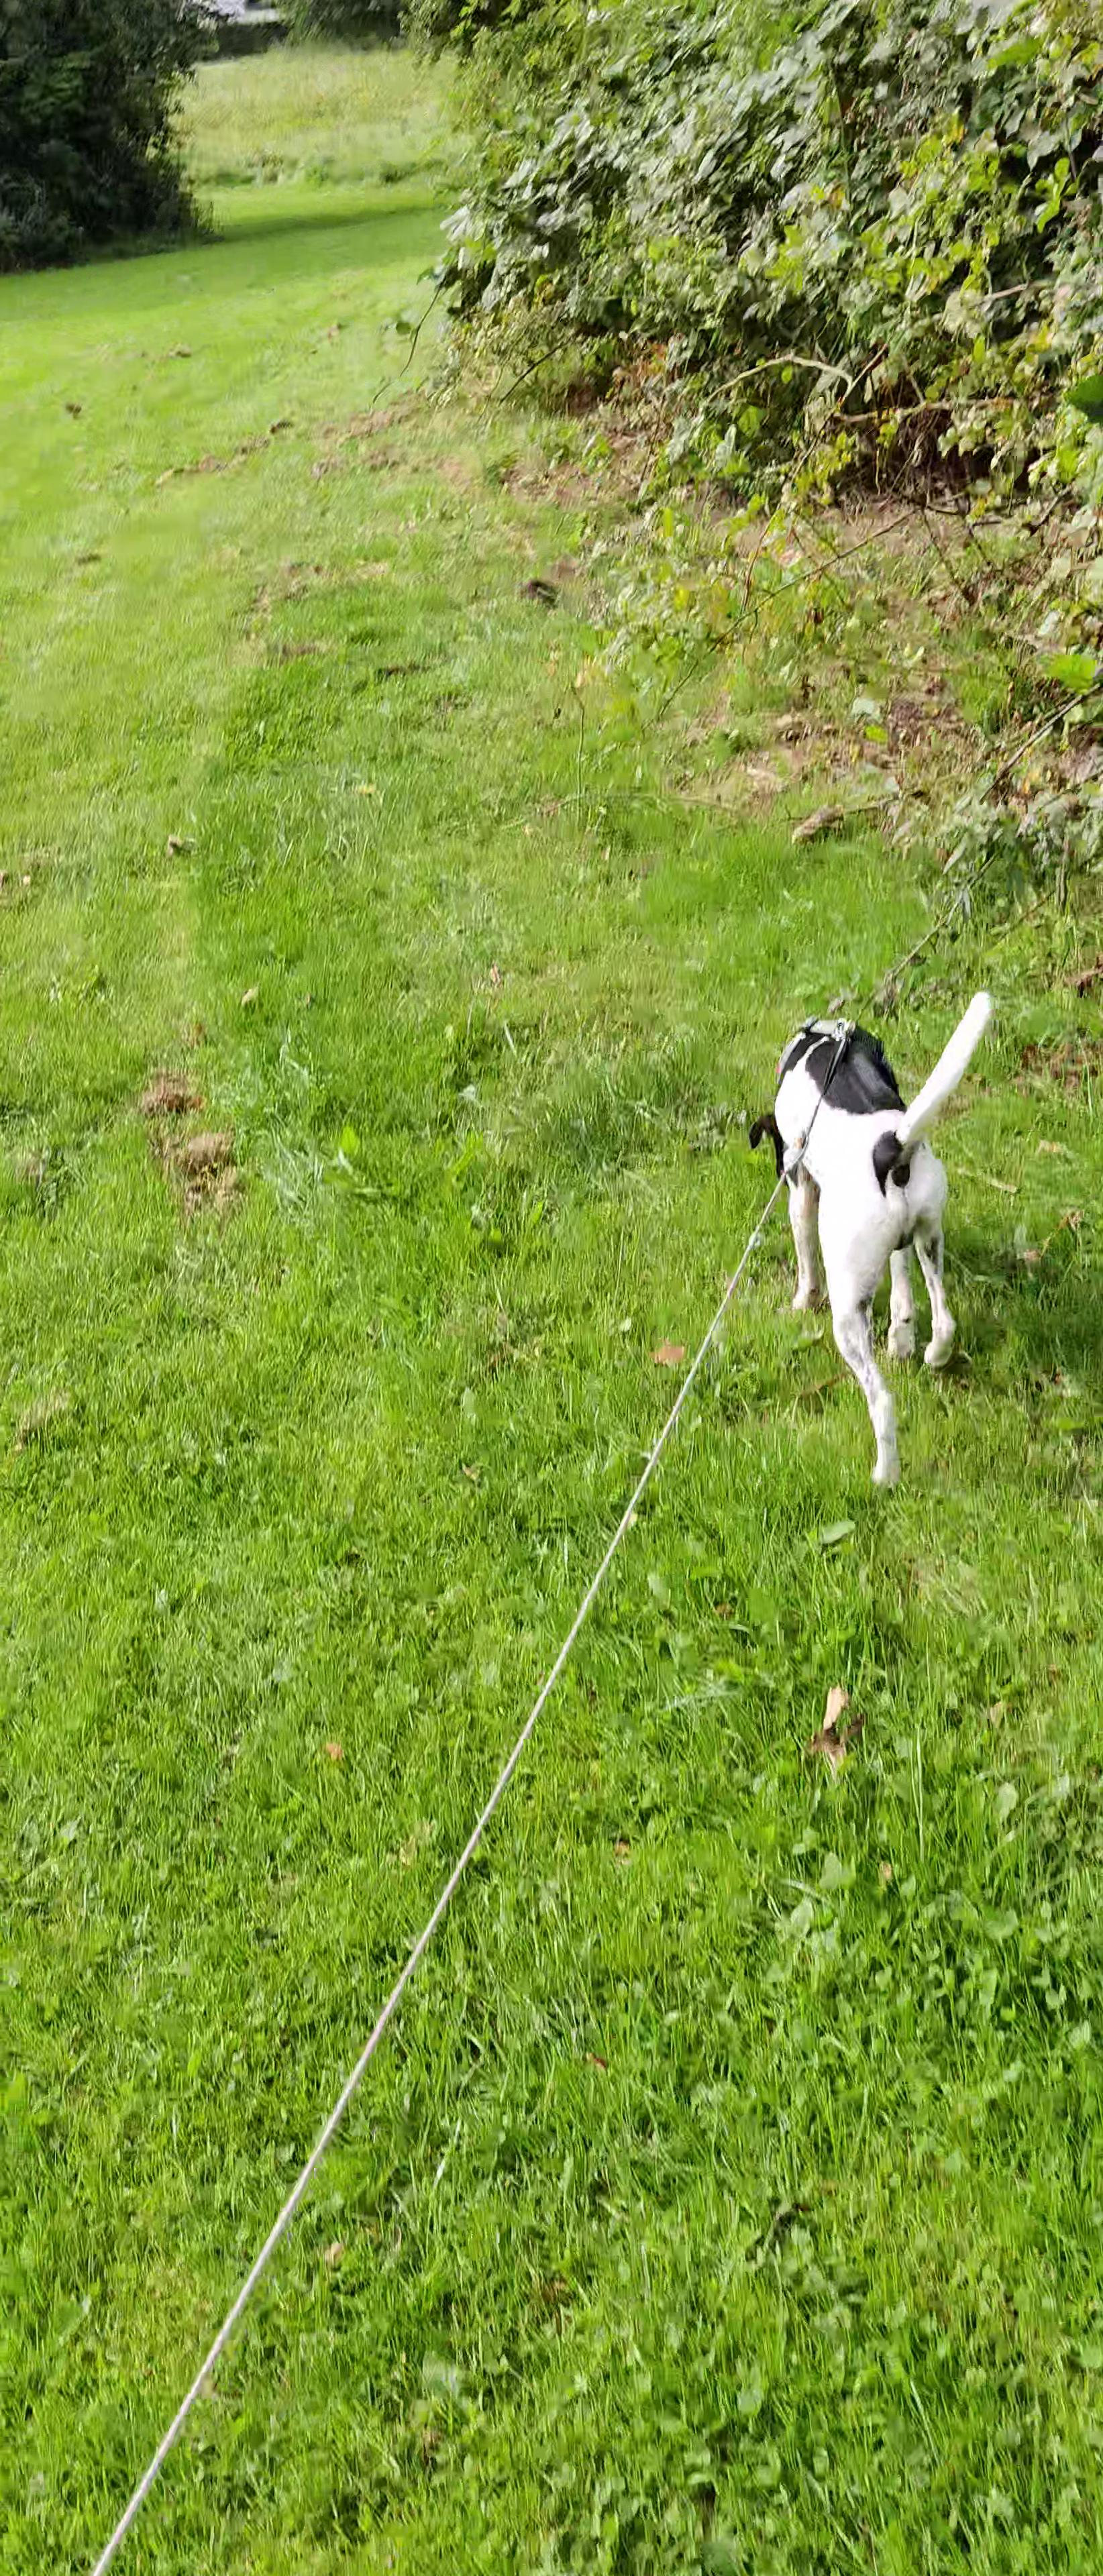Dog: (735, 971, 1027, 1498)
